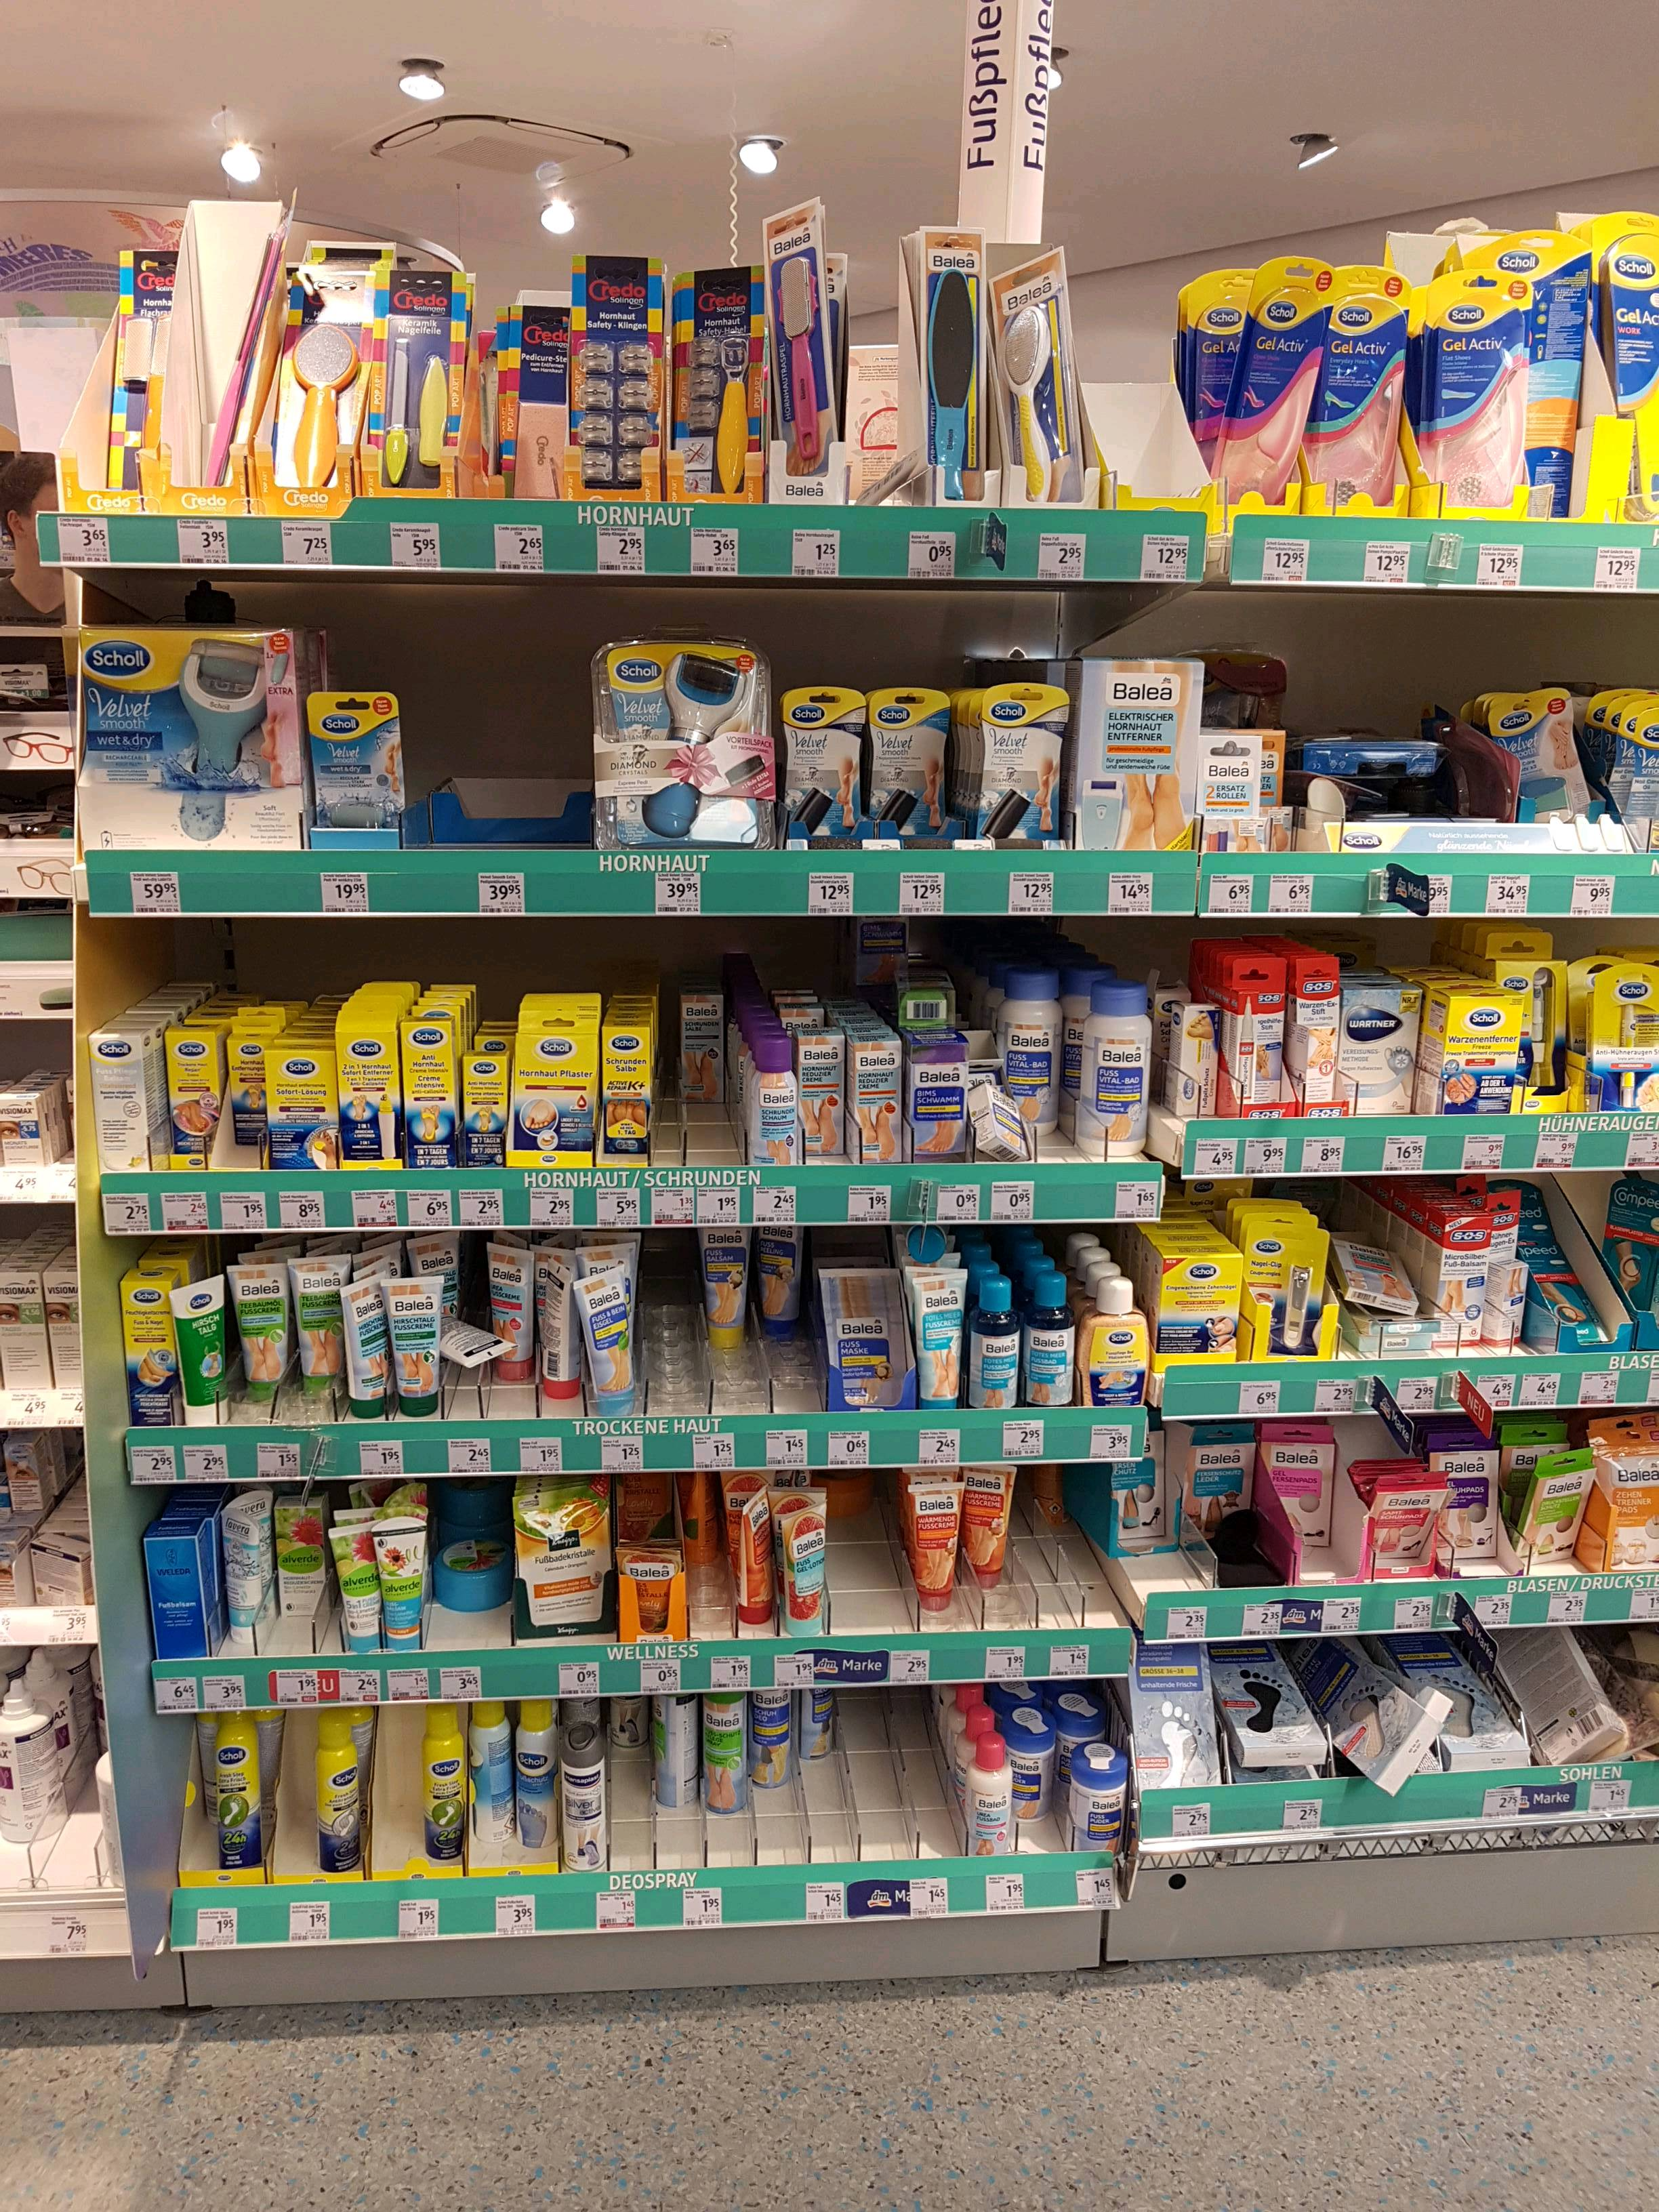Misplacement: (678, 984, 748, 1174)
